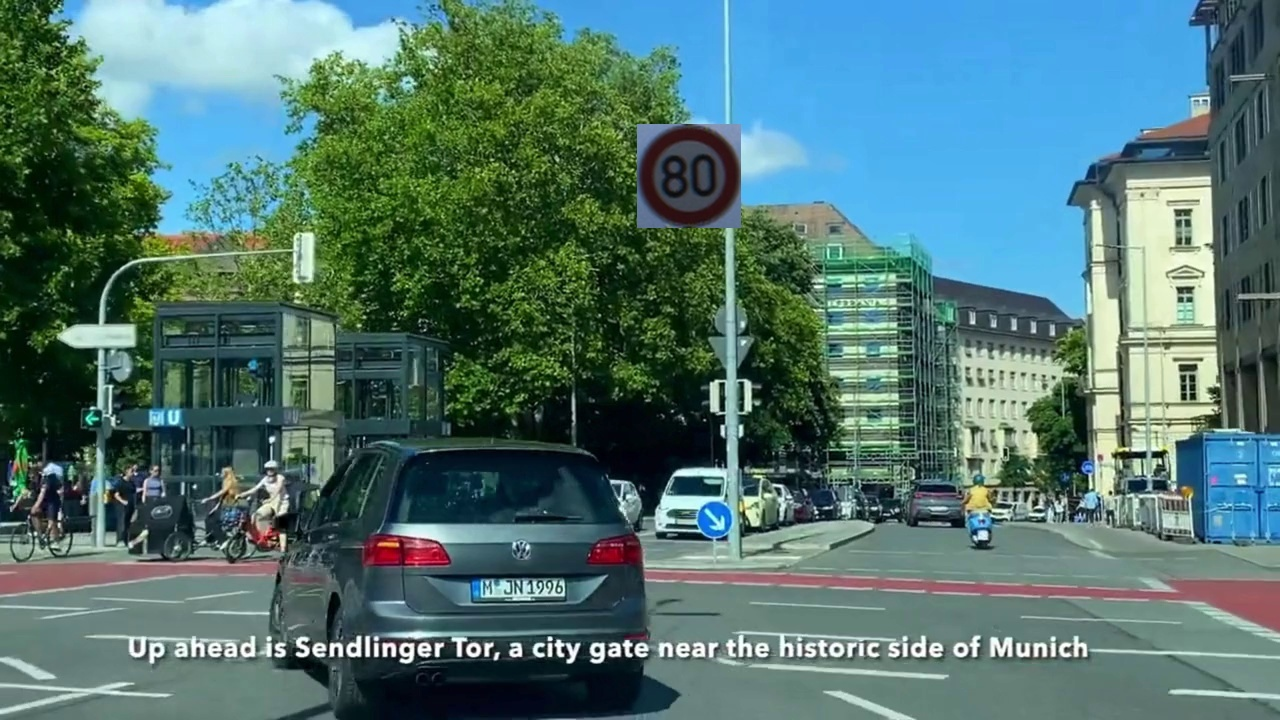Speed 80: (637, 124, 741, 228)
